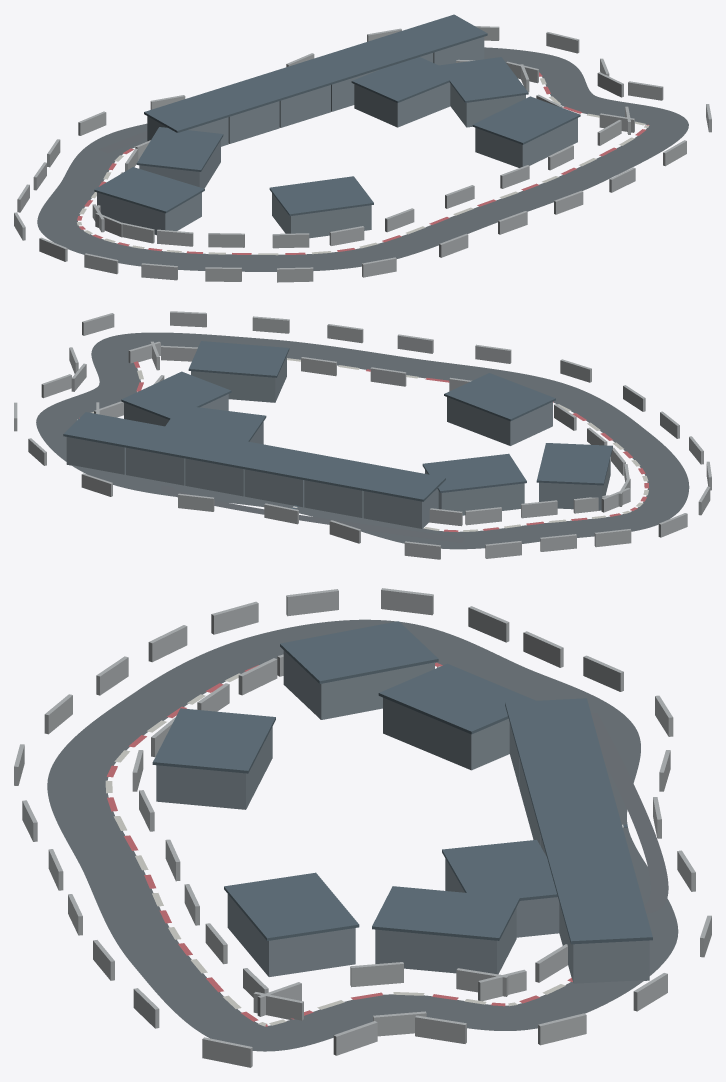
3 views of the same model, one above another, from view 1: azimuth 30°, elevation 25°; view 2: azimuth 150°, elevation 25°; view 3: azimuth 270°, elevation 25° (orthographic). The views are drawn at different scales.
Parts seen in each view (by area): view 1: asphalt, grandstand_roof_4, grandstand_roof_2, grandstand_roof_3, grandstand_roof_0, grandstand_roof_5, grandstand_roof_1, grandstand_2, grandstand_0, grandstand_4, grandstand_3, pit_roof_0 (+32 smaller); view 2: asphalt, grandstand_roof_3, grandstand_roof_2, grandstand_roof_1, grandstand_roof_4, grandstand_roof_5, grandstand_3, grandstand_roof_0, pit_building_0, grandstand_5, pit_roof_0, grandstand_2 (+39 smaller); view 3: asphalt, grandstand_roof_4, grandstand_roof_2, grandstand_roof_3, grandstand_roof_1, grandstand_roof_5, grandstand_roof_0, grandstand_1, grandstand_2, grandstand_5, grandstand_4, grandstand_3 (+29 smaller).
Boxes of the visible parts, <box> form: asphalt: <box>37,47,688,271</box>; grandstand_roof_4: <box>94,167,204,213</box>; grandstand_roof_2: <box>472,96,580,144</box>; grandstand_roof_3: <box>269,176,373,215</box>; grandstand_roof_0: <box>351,57,461,102</box>; grandstand_roof_5: <box>136,127,223,171</box>; grandstand_roof_1: <box>439,57,528,102</box>; grandstand_2: <box>475,118,577,167</box>; grandstand_0: <box>354,82,450,127</box>; grandstand_4: <box>97,192,201,235</box>; grandstand_3: <box>272,193,371,238</box>; pit_roof_0: <box>144,95,231,132</box>; asphalt: <box>36,332,689,549</box>; grandstand_roof_3: <box>444,373,555,421</box>; grandstand_roof_2: <box>188,341,289,377</box>; grandstand_roof_1: <box>121,371,231,419</box>; grandstand_roof_4: <box>536,443,612,485</box>; grandstand_roof_5: <box>422,453,526,492</box>; grandstand_3: <box>447,397,552,445</box>; grandstand_roof_0: <box>165,407,266,441</box>; pit_building_0: <box>363,488,438,528</box>; grandstand_5: <box>425,470,524,515</box>; pit_roof_0: <box>360,466,445,501</box>; grandstand_2: <box>191,356,286,402</box>; asphalt: <box>47,619,678,1051</box>; grandstand_roof_4: <box>280,621,438,683</box>; grandstand_roof_2: <box>224,872,359,940</box>; grandstand_roof_3: <box>152,708,275,773</box>; grandstand_roof_1: <box>372,886,519,940</box>; grandstand_roof_5: <box>378,663,535,734</box>; grandstand_roof_0: <box>442,839,557,902</box>; grandstand_1: <box>375,907,516,974</box>; grandstand_2: <box>227,894,355,976</box>; grandstand_5: <box>383,697,509,770</box>; grandstand_4: <box>283,650,434,719</box>; grandstand_3: <box>156,727,272,809</box>.
Bounding box in the file's own units: 56.89 × 2.64 × 36.43.
